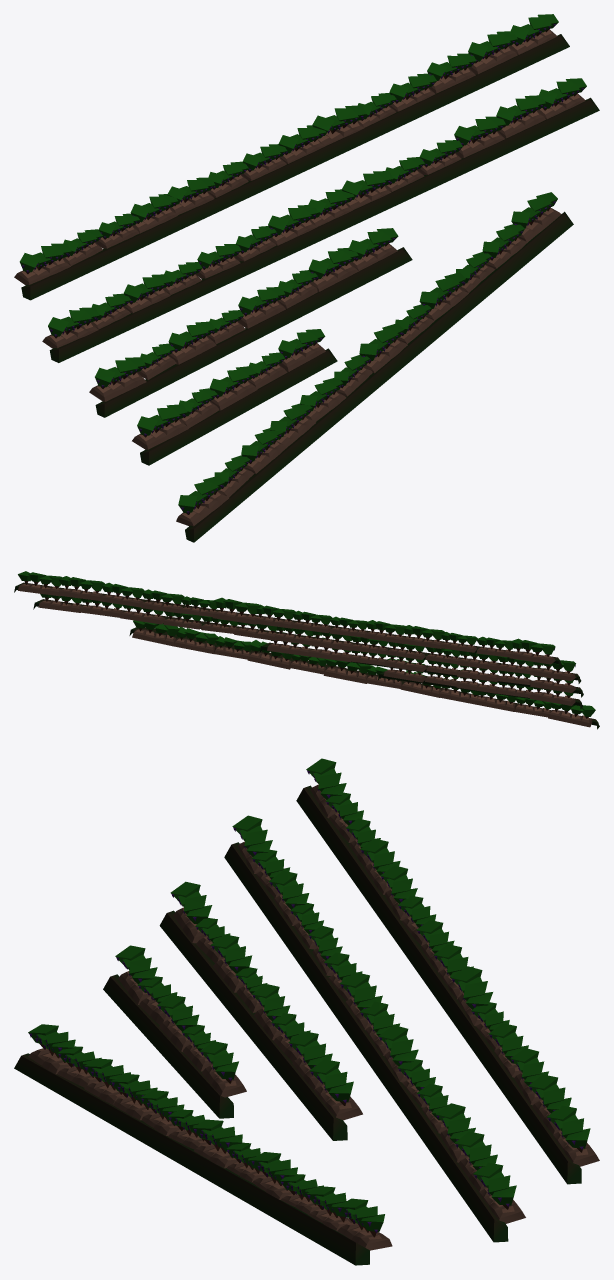
Rendered from c_trees_sierra_vineyard.fbx.
3 views of the same model, one above another, from view 1: azimuth 30°, elevation 25°; view 2: azimuth 150°, elevation 25°; view 3: azimuth 270°, elevation 25° (orthographic). The views are drawn at different scales.
Parts seen in each view (by area): view 1: c_trees_sierra_vineyard; view 2: c_trees_sierra_vineyard; view 3: c_trees_sierra_vineyard.
Part boxes in pixels (x1=…): c_trees_sierra_vineyard: x1=14, y1=14, x2=599, y2=542; c_trees_sierra_vineyard: x1=14, y1=571, x2=599, y2=729; c_trees_sierra_vineyard: x1=14, y1=758, x2=599, y2=1265.
Size of the model in its own units: 66.22 by 22.6 by 39.56.
